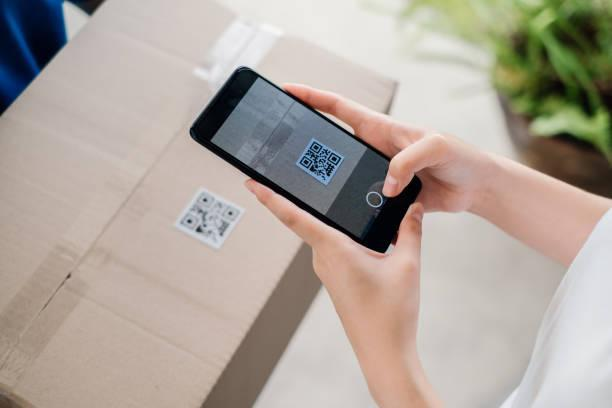Finder pattern: (221, 202, 242, 222), (181, 213, 202, 230), (197, 191, 215, 208), (298, 154, 314, 170), (325, 152, 342, 166), (309, 141, 322, 153)
